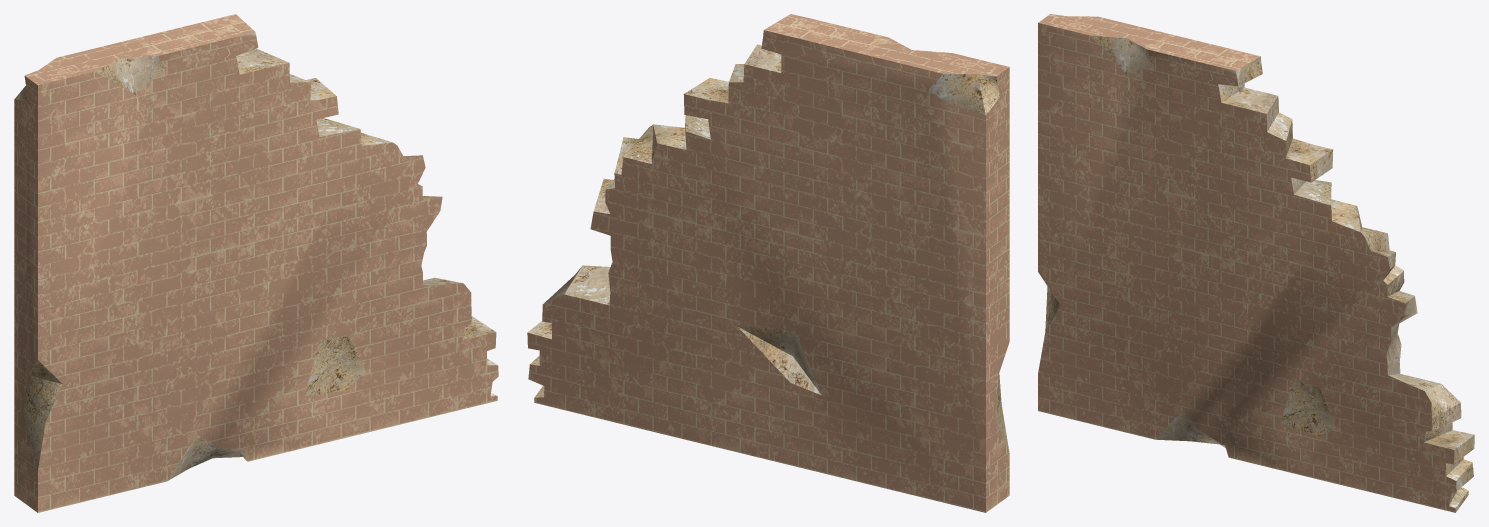
The model's file is SM_Wall_01_Damaged_02.FBX.
3 views of the same model, side by side, from view 1: azimuth 30°, elevation 25°; view 2: azimuth 150°, elevation 25°; view 3: azimuth 330°, elevation 25° (orthographic). The views are drawn at different scales.
Parts seen in each view (by area): view 1: SM_Wall_01_Damaged_02; view 2: SM_Wall_01_Damaged_02; view 3: SM_Wall_01_Damaged_02.
Boxes of the visible parts, bbox=[...] form: SM_Wall_01_Damaged_02: bbox=[14, 14, 498, 512]; SM_Wall_01_Damaged_02: bbox=[527, 14, 1009, 512]; SM_Wall_01_Damaged_02: bbox=[1038, 14, 1474, 512].
Bounding box in the file's own units: 5.64 × 5 × 0.5.
